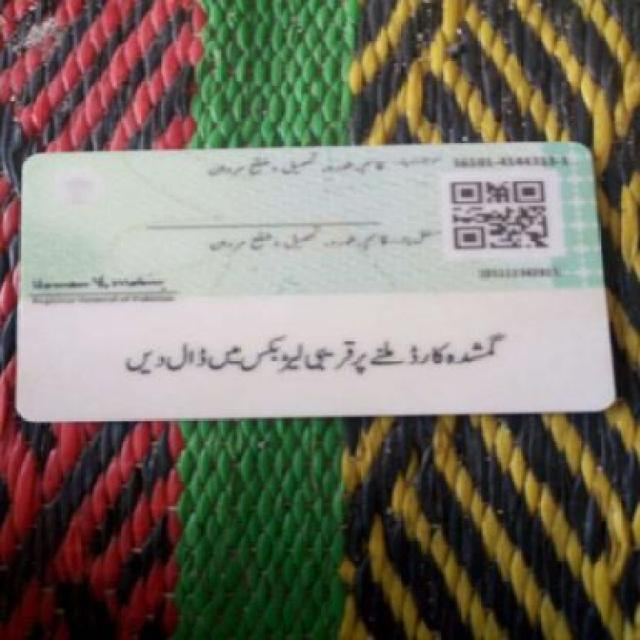Back: (17, 143, 617, 422)
